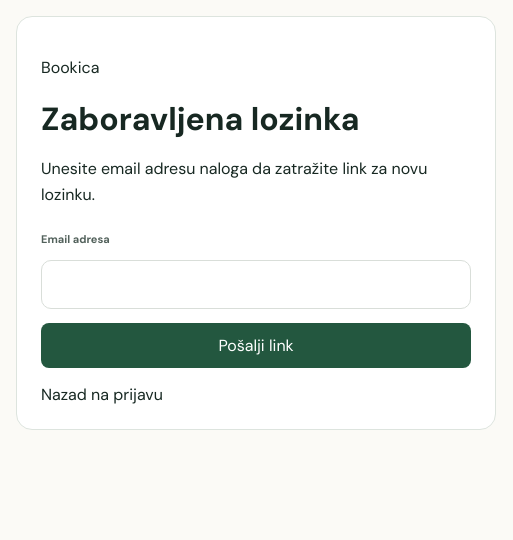
Test: shows generic confirmation without displaying whether the address exists
Type "user@example.com" into the field labelled "Email adresa" at (256, 285), box [41, 260, 471, 309]
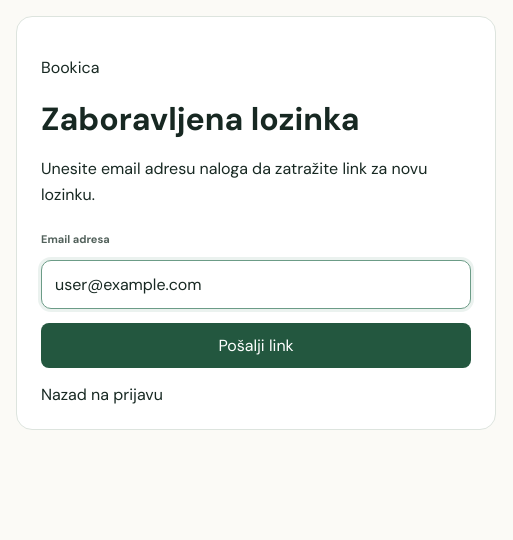
Click the button "Pošalji link" at (256, 346), box [41, 323, 471, 368]
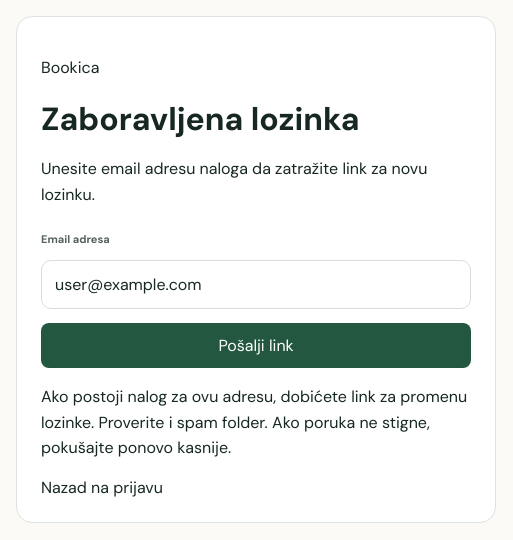
Expected: the message shows "Ako postoji nalog", [41, 386, 467, 458]
